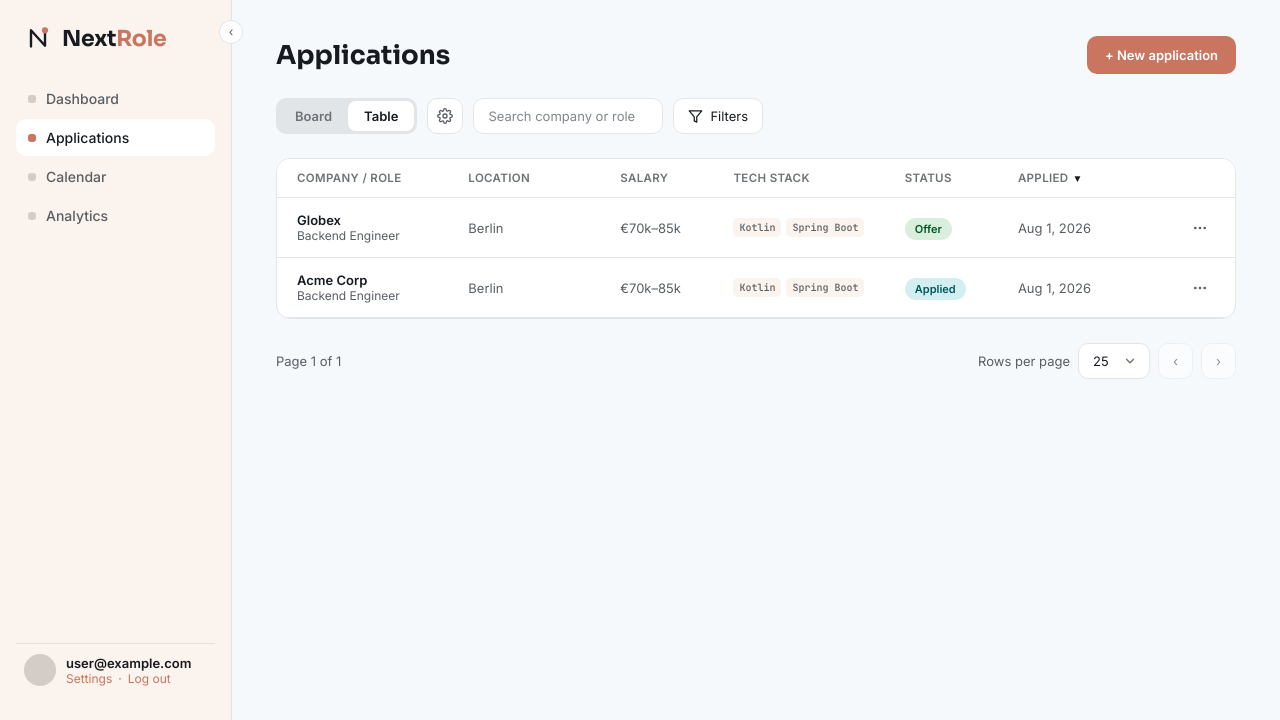
ApplicationsPage › filters applications by status
Check: the text "Acme Corp" is shown, box left=297, top=272, right=367, bottom=288
Click the button "Filters": x=718, y=116 left=673, top=98, right=763, bottom=134
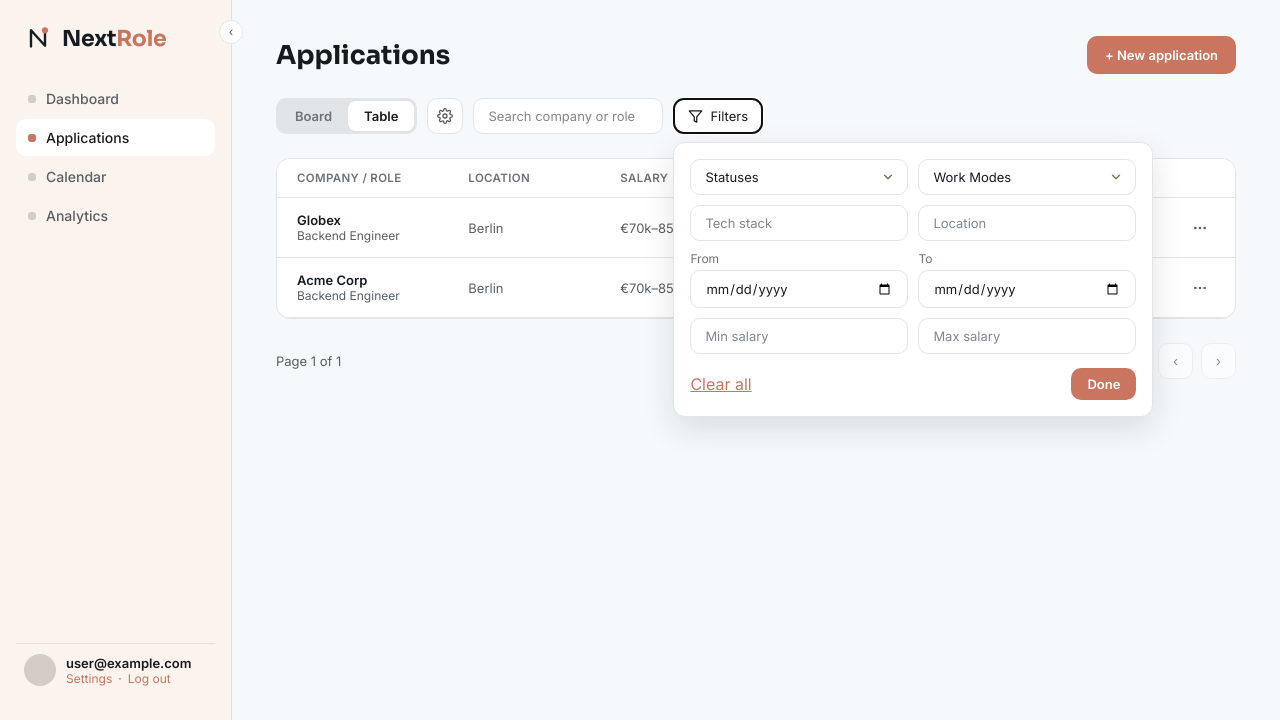
Select "Offer" in the 1st dropdown showing "Statuses": x=799, y=177 left=690, top=159, right=908, bottom=195
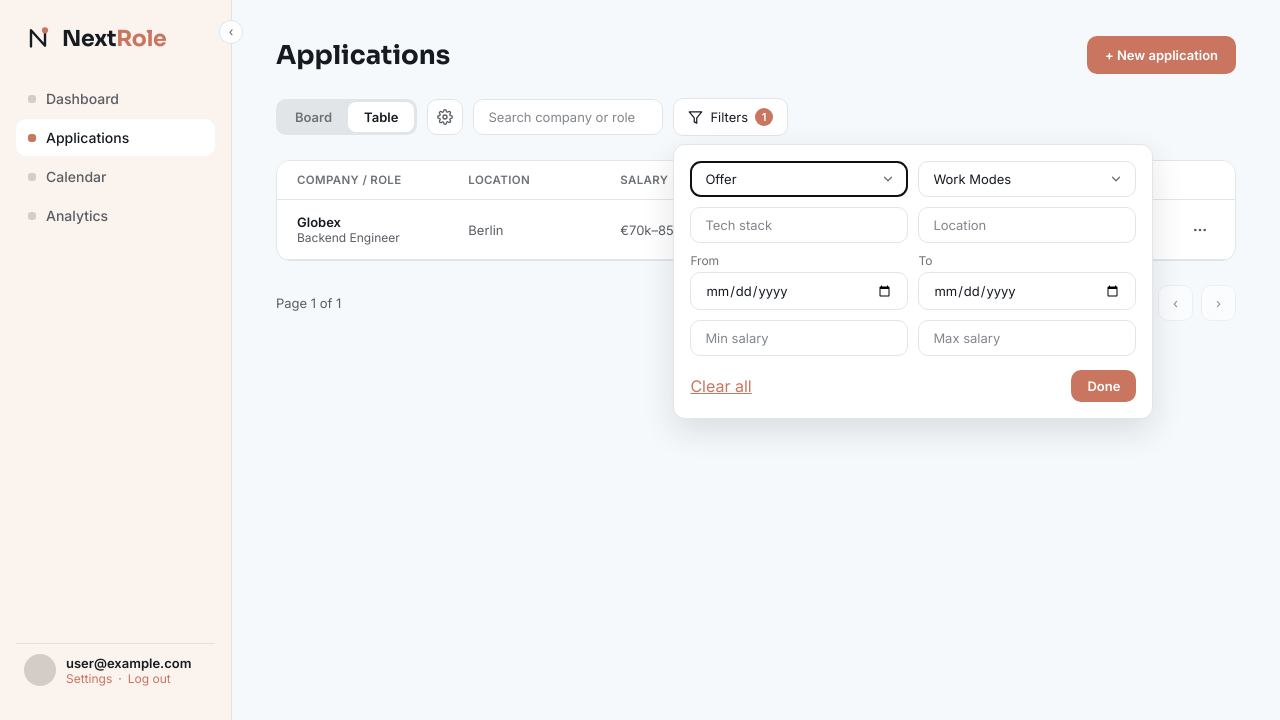
Check: the text "Globex" is shown, box left=297, top=214, right=341, bottom=230
Check: the text "Acme Corp" is gone
